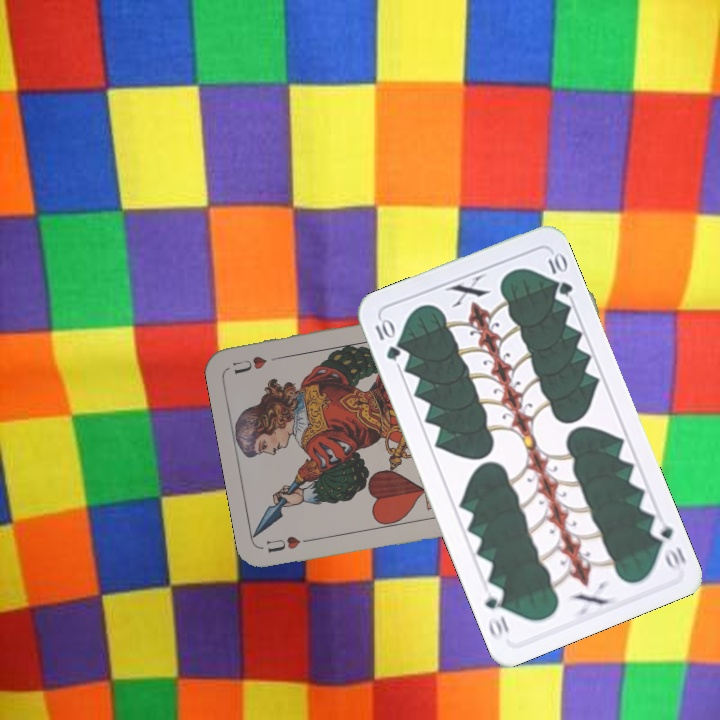G10: (646, 514, 690, 573), (371, 313, 403, 363)
HU: (262, 532, 320, 555)
